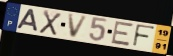5: (88, 17, 108, 44)
A: (15, 8, 39, 33)
E: (109, 20, 135, 48)
F: (131, 23, 157, 48)
V: (67, 13, 90, 39)
X: (38, 9, 63, 37)
